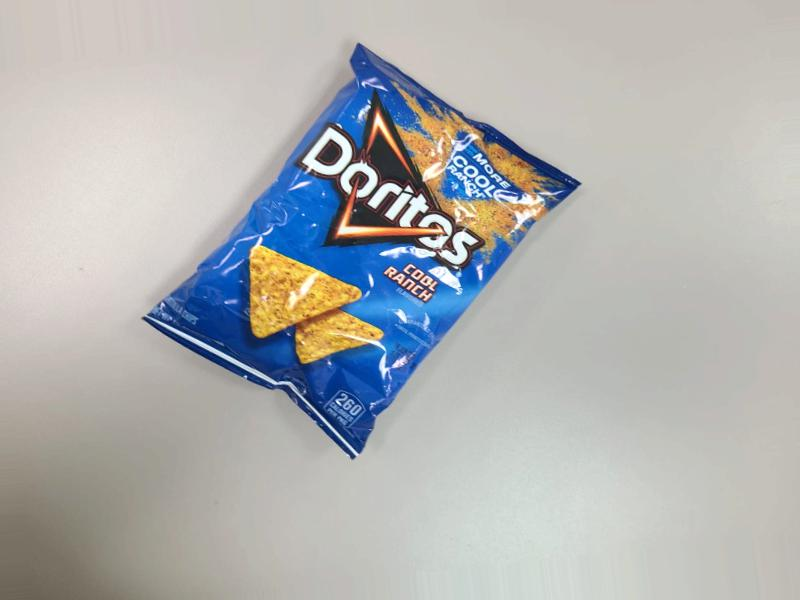doritos: (205, 50, 541, 427)
